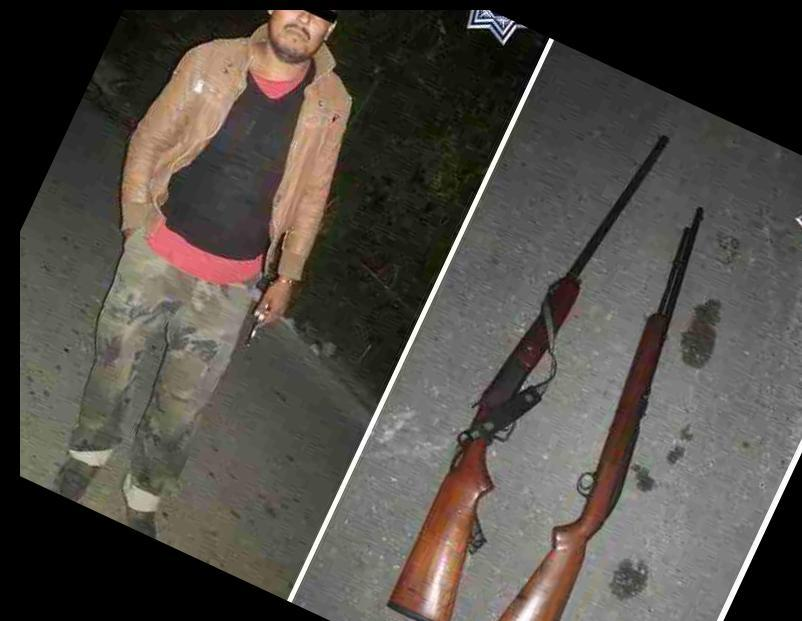larga: (387, 132, 673, 621), (498, 202, 705, 621)
